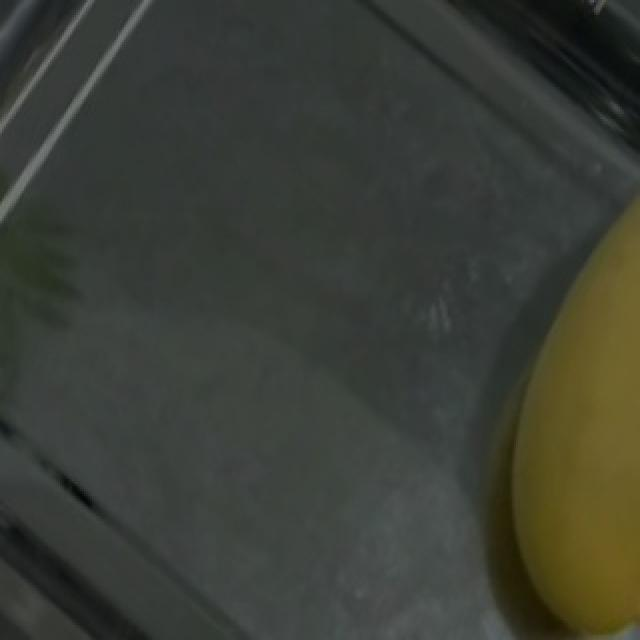fruit: (486, 278, 640, 637)
